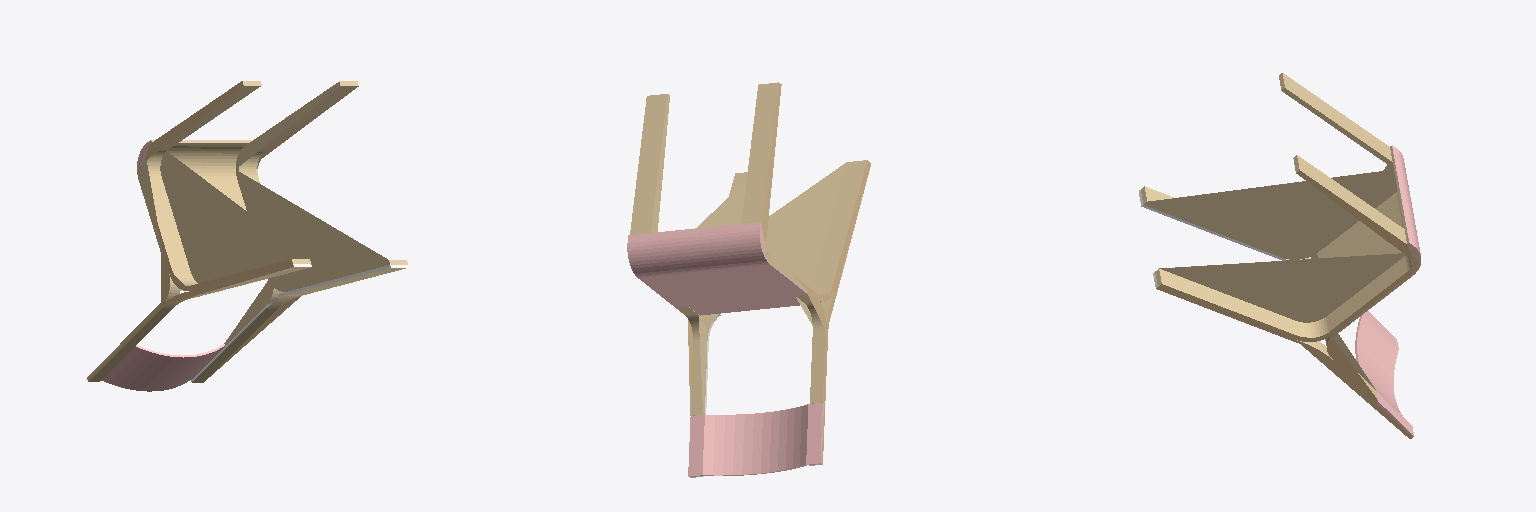
The model's file is chair15.obj.
3 renders of one model, left to right at view 1: azimuth 30°, elevation 25°; view 2: azimuth 150°, elevation 25°; view 3: azimuth 270°, elevation 25°, orthographic.
Visible parts, largest first — view 1: Mesh2 Component1_1 skprpOyXc1 Model, Mesh6 Component5_1 skprpOyXc1 Model, Mesh7 skprpOyXc1 Model, Mesh9 skprpOyXc1 Model, Mesh4 Component3_1 skprpOyXc1 Model, Mesh5 Component4_1 skprpOyXc1 Model, Mesh3 Component2_1 skprpOyXc1 Model, Mesh1 Component1 skprpOyXc1 Model; view 2: Mesh2 Component1_1 skprpOyXc1 Model, Mesh8 skprpOyXc1 Model, Mesh9 skprpOyXc1 Model, Mesh6 Component5_1 skprpOyXc1 Model, Mesh3 Component2_1 skprpOyXc1 Model, Mesh1 Component1 skprpOyXc1 Model, Mesh5 Component4_1 skprpOyXc1 Model; view 3: Mesh6 Component5_1 skprpOyXc1 Model, Mesh2 Component1_1 skprpOyXc1 Model, Mesh9 skprpOyXc1 Model, Mesh7 skprpOyXc1 Model, Mesh4 Component3_1 skprpOyXc1 Model, Mesh3 Component2_1 skprpOyXc1 Model, Mesh8 skprpOyXc1 Model.
Part boxes in pixels (x1,y1,x2,y2): Mesh2 Component1_1 skprpOyXc1 Model: (139,81,310,290); Mesh6 Component5_1 skprpOyXc1 Model: (236,81,407,291); Mesh7 skprpOyXc1 Model: (138,140,261,253); Mesh9 skprpOyXc1 Model: (87,344,224,391); Mesh4 Component3_1 skprpOyXc1 Model: (191,265,408,382); Mesh5 Component4_1 skprpOyXc1 Model: (87,264,311,381); Mesh3 Component2_1 skprpOyXc1 Model: (224,280,283,345); Mesh1 Component1 skprpOyXc1 Model: (120,254,180,344); Mesh2 Component1_1 skprpOyXc1 Model: (741,82,869,302); Mesh8 skprpOyXc1 Model: (627,222,807,315); Mesh9 skprpOyXc1 Model: (688,403,823,476); Mesh6 Component5_1 skprpOyXc1 Model: (630,94,747,234); Mesh3 Component2_1 skprpOyXc1 Model: (676,307,706,415); Mesh1 Component1 skprpOyXc1 Model: (796,292,826,403); Mesh5 Component4_1 skprpOyXc1 Model: (809,163,870,465); Mesh6 Component5_1 skprpOyXc1 Model: (1155,155,1417,341); Mesh2 Component1_1 skprpOyXc1 Model: (1141,73,1397,259); Mesh9 skprpOyXc1 Model: (1355,311,1413,437); Mesh7 skprpOyXc1 Model: (1317,146,1420,322); Mesh4 Component3_1 skprpOyXc1 Model: (1153,272,1411,438); Mesh3 Component2_1 skprpOyXc1 Model: (1325,322,1377,401); Mesh8 skprpOyXc1 Model: (1353,145,1420,321).
Size of the model in its own units: 0.6528 by 0.9942 by 0.7183.